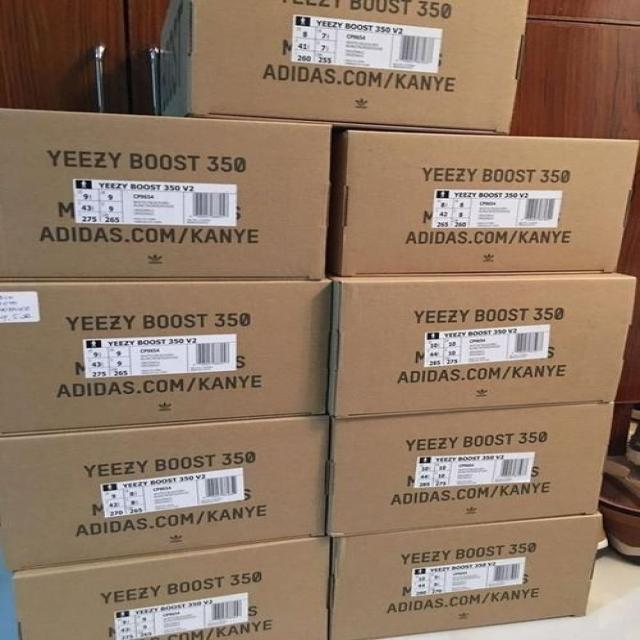box: (1, 105, 331, 278), (0, 277, 331, 438), (0, 413, 331, 571), (153, 0, 531, 136), (326, 128, 639, 272), (333, 269, 637, 414), (327, 404, 616, 534), (330, 512, 602, 639), (10, 534, 331, 639)
